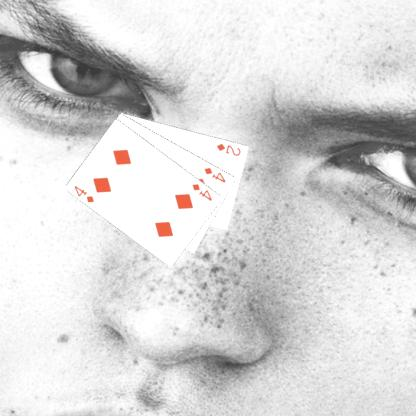2D: (214, 141, 242, 157)
4D: (72, 182, 96, 204), (202, 164, 228, 184), (190, 181, 214, 202)
